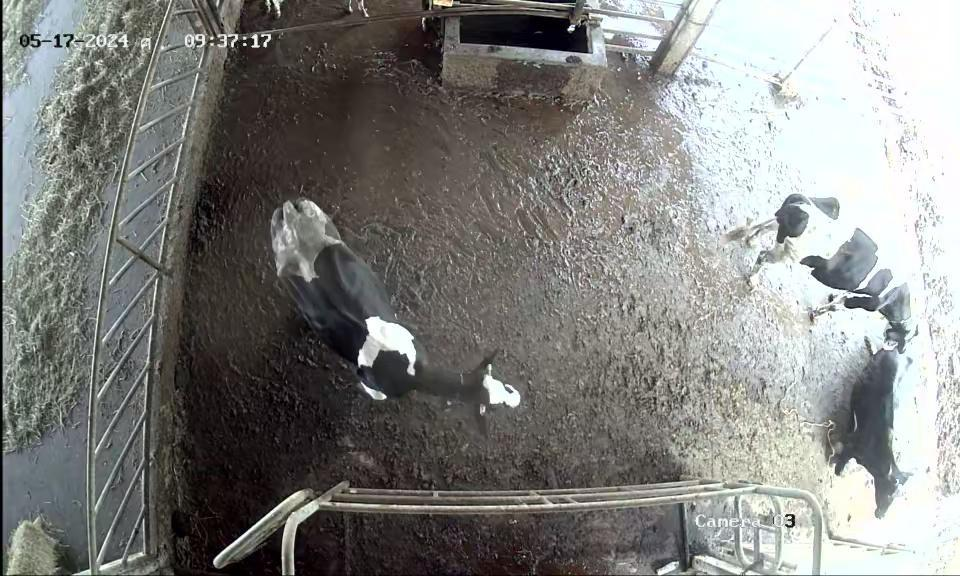stand: (269, 188, 536, 435), (711, 188, 921, 353), (830, 343, 922, 523)
